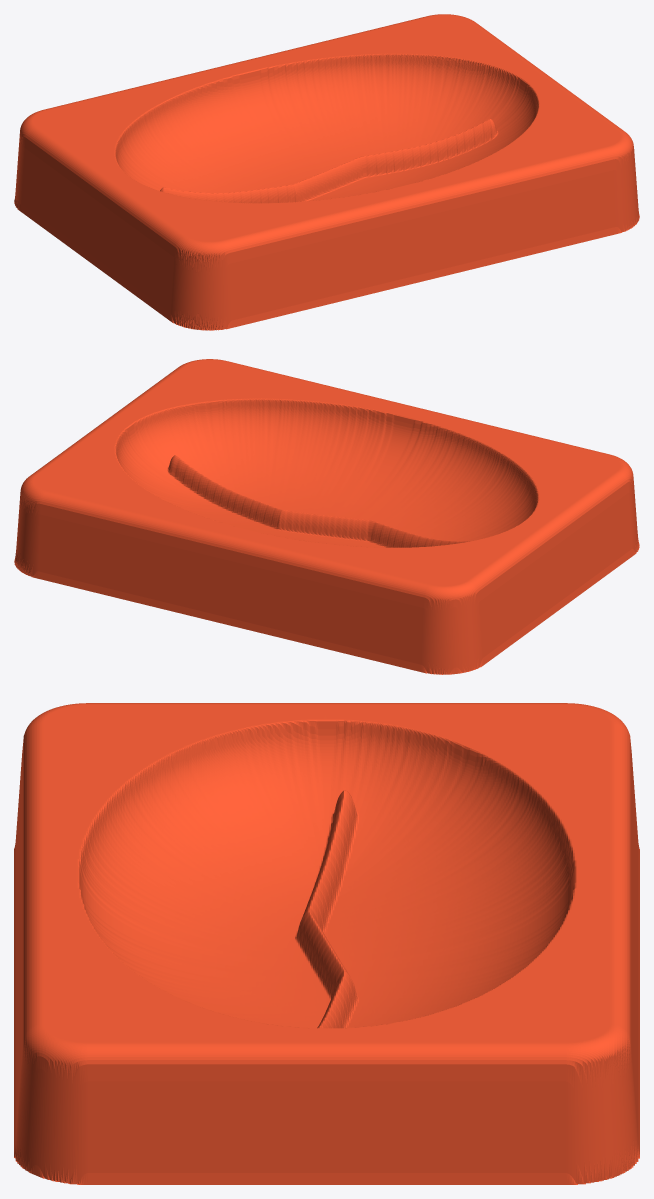
Rendered from mold.glb.
3 renders of one model, top to bottom at view 1: azimuth 30°, elevation 25°; view 2: azimuth 150°, elevation 25°; view 3: azimuth 270°, elevation 25°, orthographic. The views are drawn at different scales.
Visible parts, largest first — view 1: geometry_0; view 2: geometry_0; view 3: geometry_0.
Part boxes in pixels (x1,y1,x2,y2): geometry_0: (14, 14, 639, 330); geometry_0: (14, 359, 639, 674); geometry_0: (14, 703, 639, 1184).
Bounding box in the file's own units: 0.105 × 0.0175 × 0.0766.
